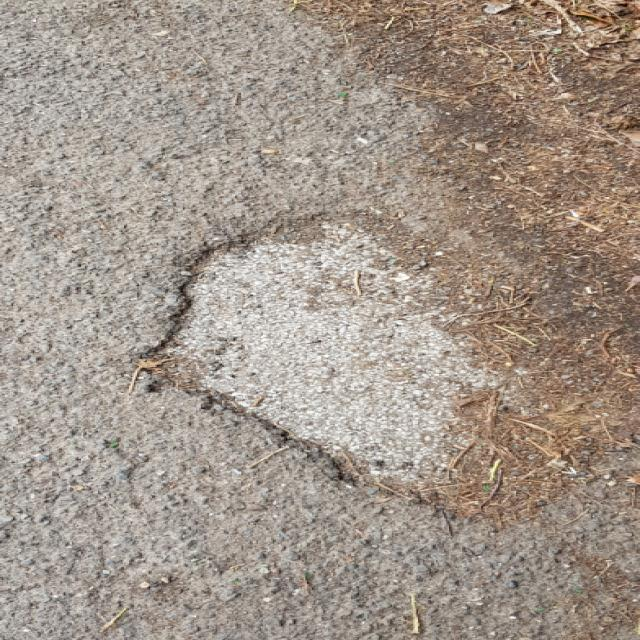Pothole: (124, 206, 568, 528)
